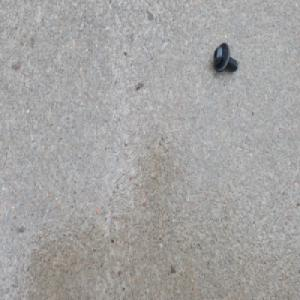BoltWasher: (212, 43, 238, 75)
